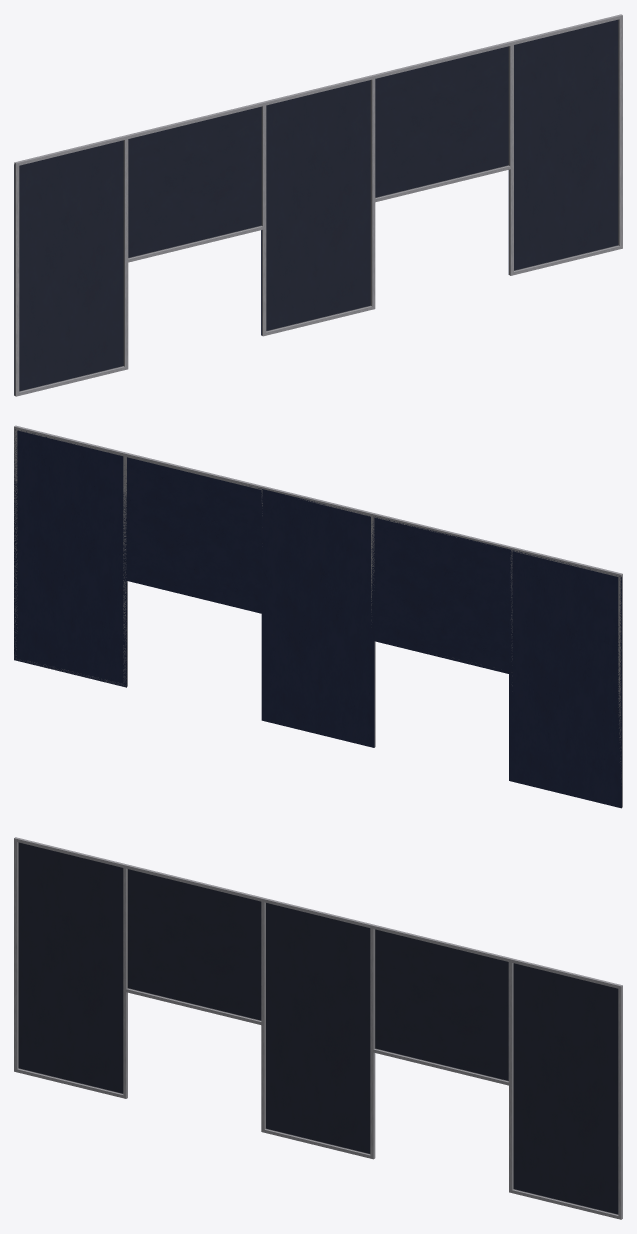
File: windowsBetweenGates.fbx
The picture shows the model from 3 angles, top to bottom: view 1: azimuth 30°, elevation 25°; view 2: azimuth 150°, elevation 25°; view 3: azimuth 330°, elevation 25°; orthographic projection.
Parts seen in each view (by area): view 1: Plane.003; view 2: Plane.003; view 3: Plane.003.
Part boxes in pixels (x1,y1,x2,y2): Plane.003: (14, 14, 622, 396); Plane.003: (14, 425, 622, 808); Plane.003: (14, 837, 622, 1219).
Bounding box in the file's own units: 2724 × 1000 × 11.84.
3 materials, 2 textured.
